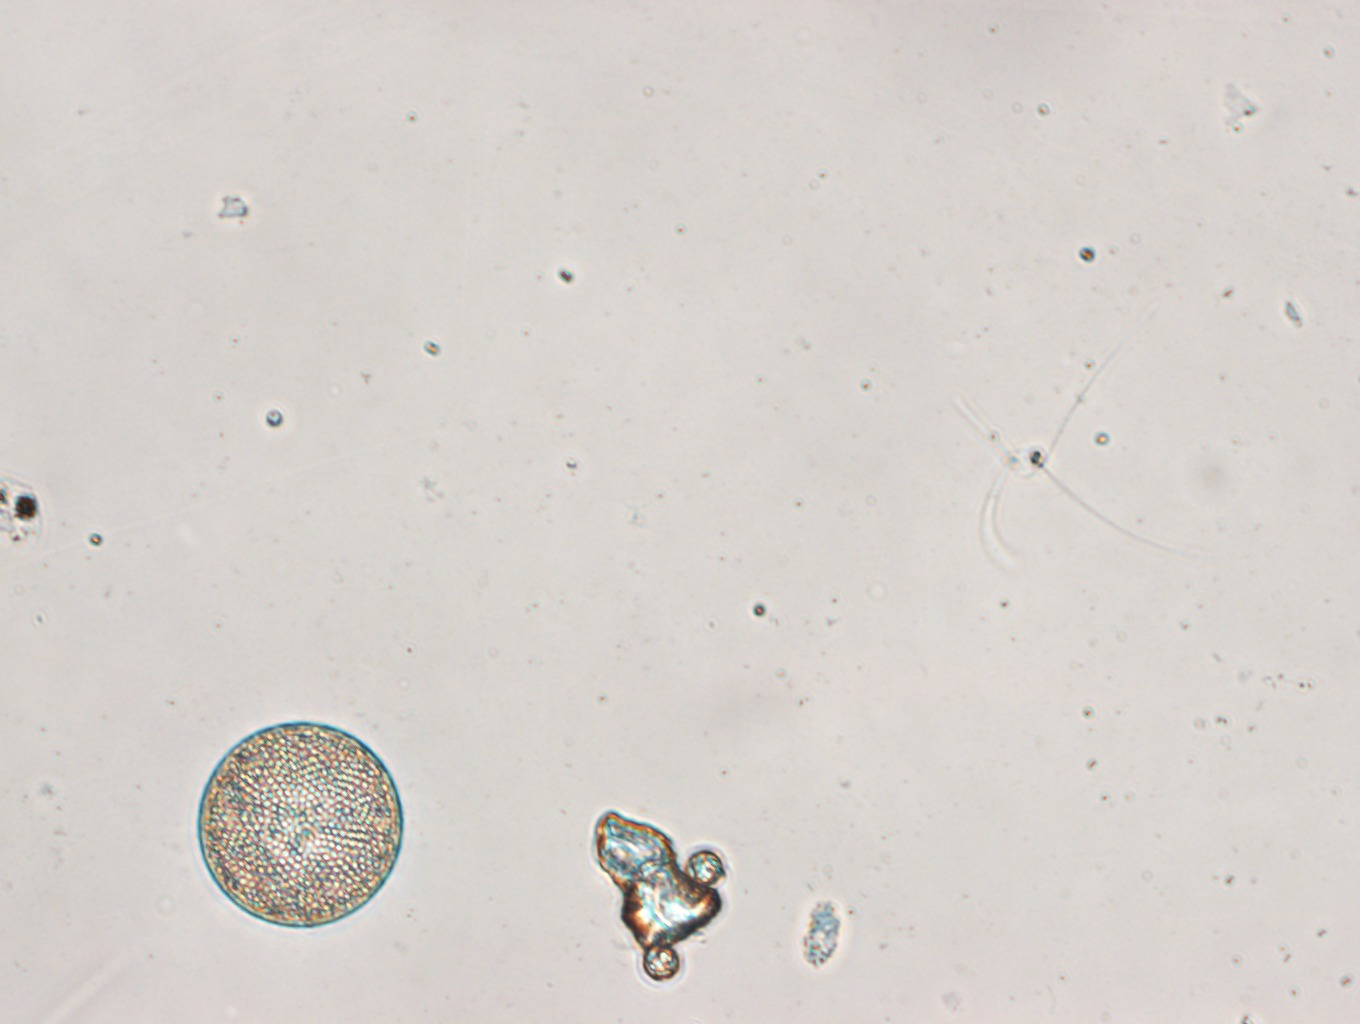coscinodiscus: (196, 717, 403, 930)
